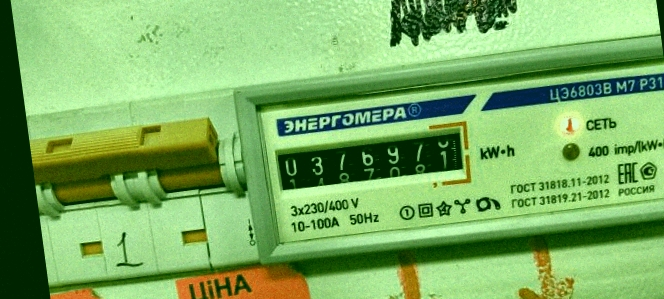0: (280, 154, 299, 177)
1: (437, 148, 451, 170)
3: (307, 152, 324, 177)
6: (359, 144, 374, 166)
7: (333, 146, 349, 172), (409, 138, 425, 162)
9: (384, 141, 399, 165)
screen: (267, 117, 477, 211)
